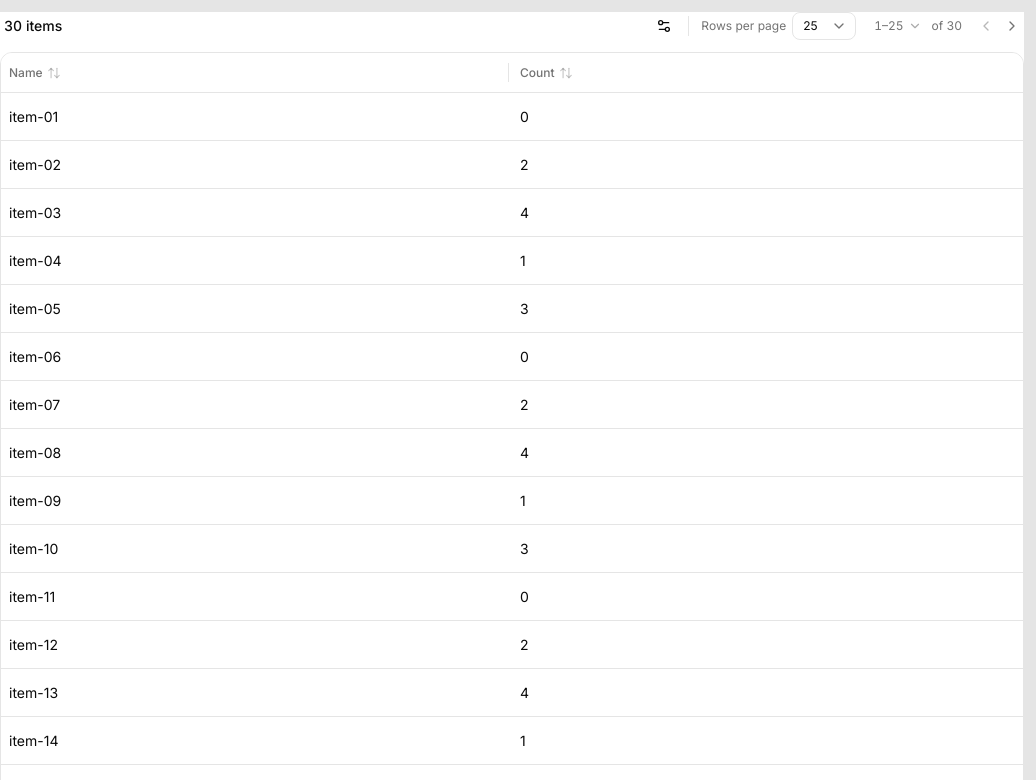
Test: DataTable › client mode › shows 25 rows by default, with 25, 50 and 100 to choose from
Click the dropdown named "rows per page".
click(824, 26)  # box x1=792 y1=12 x2=856 y2=40
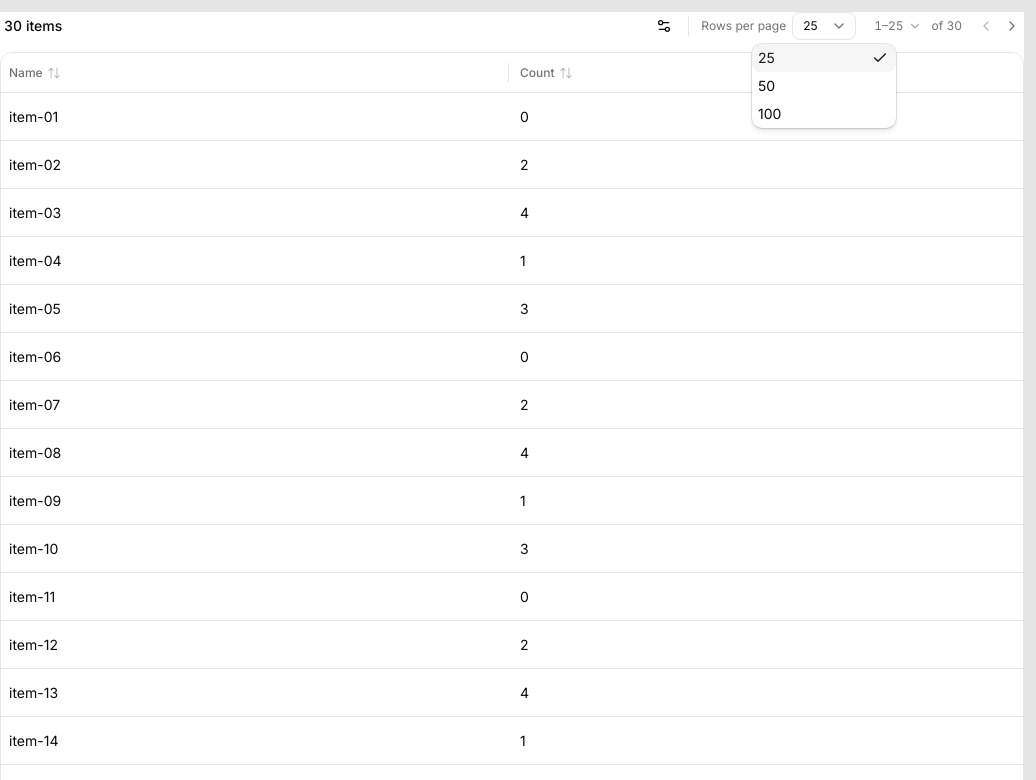
Now the options read "25", "50", "100", in this order, box x1=752 y1=44 x2=896 y2=72; x1=758 y1=77 x2=775 y2=94; x1=758 y1=105 x2=781 y2=122
